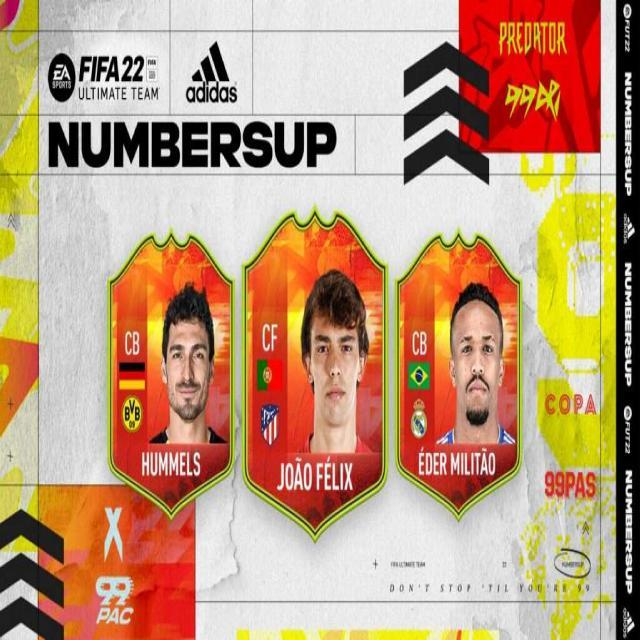Adidas: (184, 37, 238, 109)
